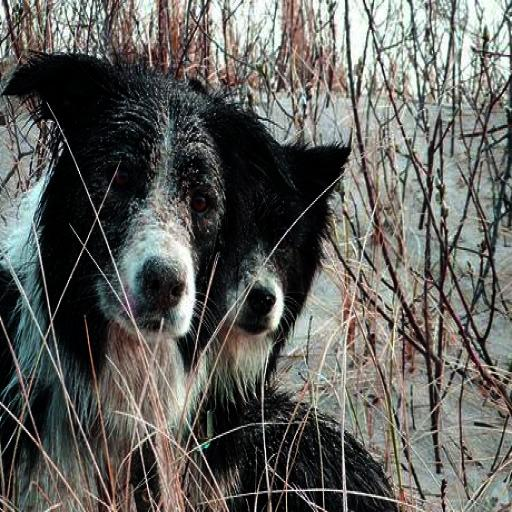dog_face: (23, 48, 223, 346)
